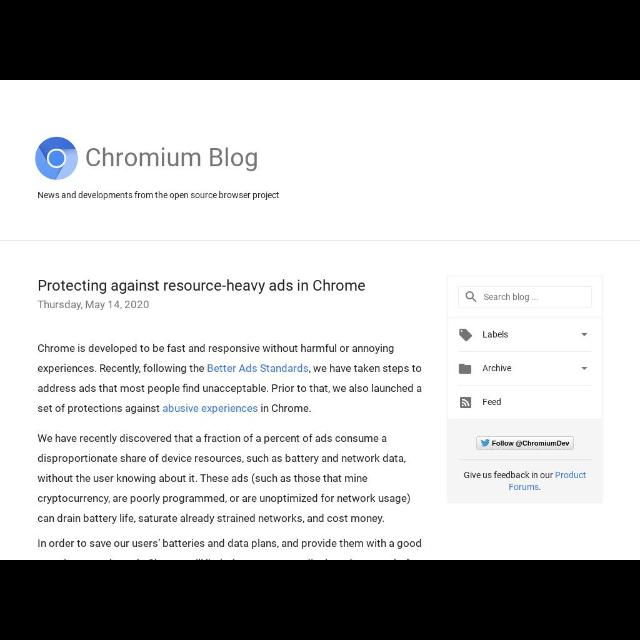icon: (456, 328, 474, 344), (456, 362, 472, 378), (465, 288, 479, 304), (460, 396, 472, 408), (580, 366, 590, 374), (580, 330, 588, 338)
image: (35, 134, 79, 182)
input: (458, 288, 590, 308)
link: (205, 362, 307, 378), (164, 404, 258, 414), (554, 470, 586, 482), (508, 482, 540, 492)
spinner: (448, 352, 604, 386), (448, 318, 602, 352)
text: (38, 432, 414, 528), (38, 343, 424, 415), (35, 534, 422, 552), (36, 276, 366, 296), (87, 142, 257, 172), (466, 468, 590, 494), (38, 192, 280, 204), (38, 298, 150, 312), (485, 292, 543, 304), (483, 364, 513, 376), (481, 328, 509, 340), (482, 395, 502, 409)
textbutton: (476, 437, 574, 449)
